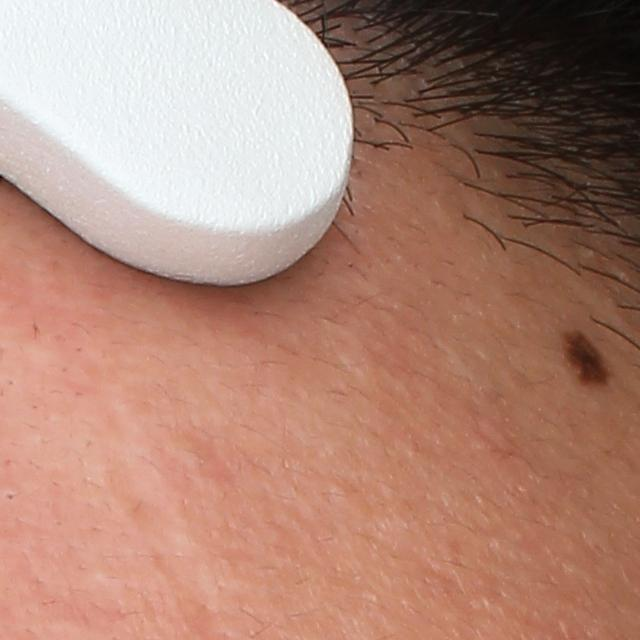comedo: (4, 489, 19, 502)
nevus: (559, 324, 616, 393)
